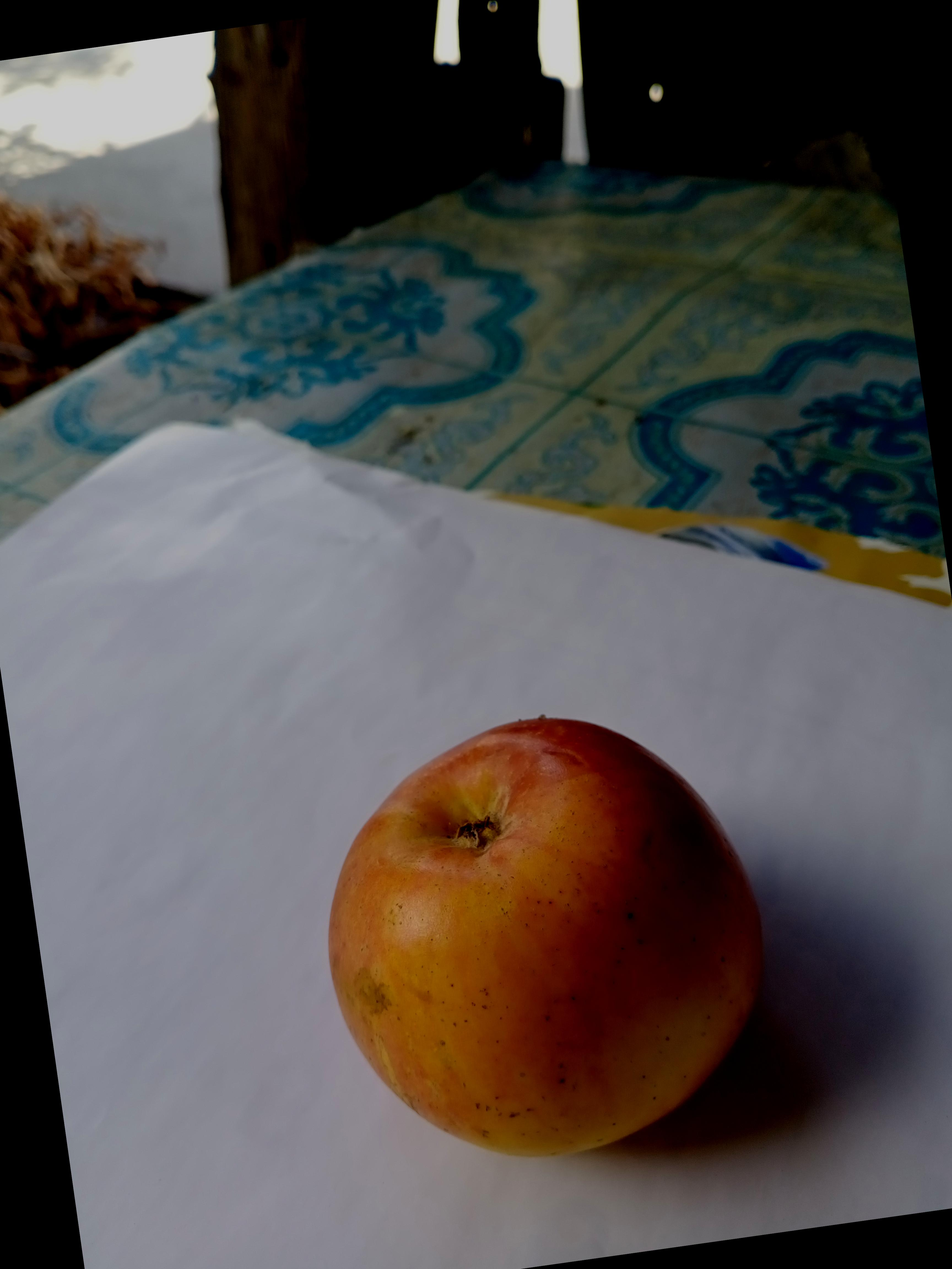Apple Ripe: (169, 758, 712, 1269)
